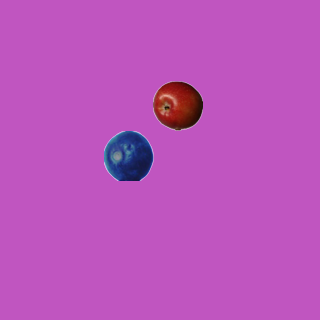Apple Braeburn: (152, 80, 202, 130)
Huckleberry: (103, 130, 153, 180)
